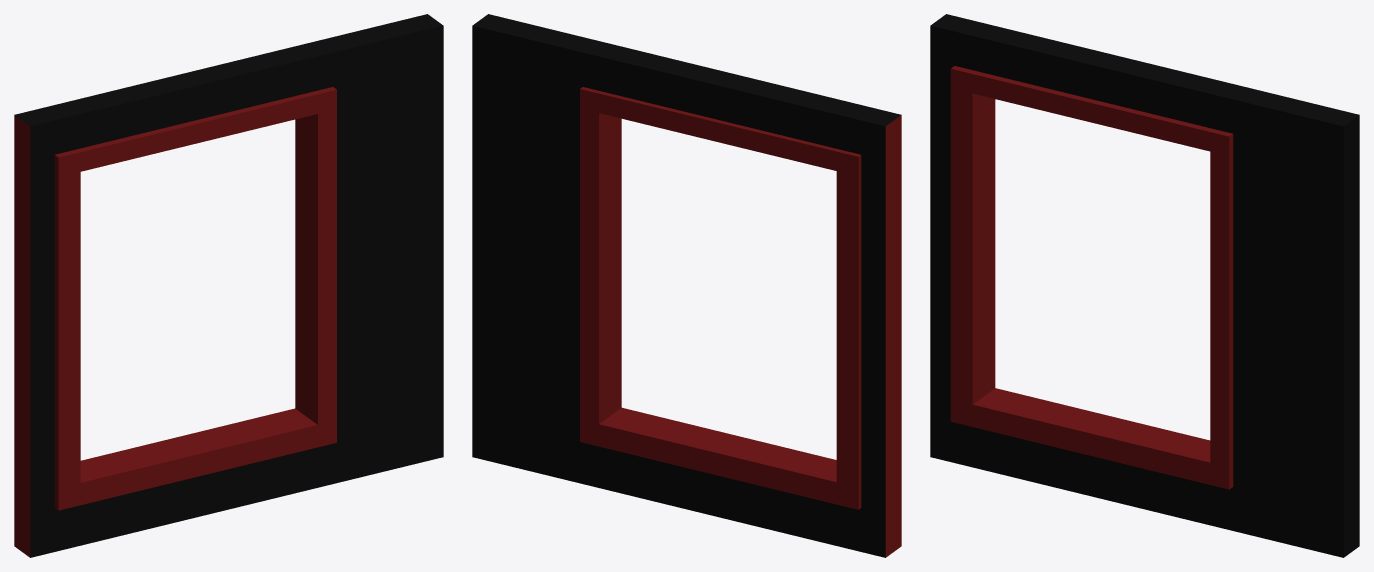
Rendered from Middle W Wall 2 - Right_Left.FBX.
3 renders of one model, left to right at view 1: azimuth 30°, elevation 25°; view 2: azimuth 150°, elevation 25°; view 3: azimuth 330°, elevation 25°, orthographic.
Visible parts, largest first — view 1: Object006; view 2: Object006; view 3: Object006.
Boxes of the visible parts, x1,y1,x2,y2 form: Object006: (14,14,443,557); Object006: (472,14,901,557); Object006: (930,14,1359,557).
Bounding box in the file's own units: 15.03 × 15 × 1.43.
